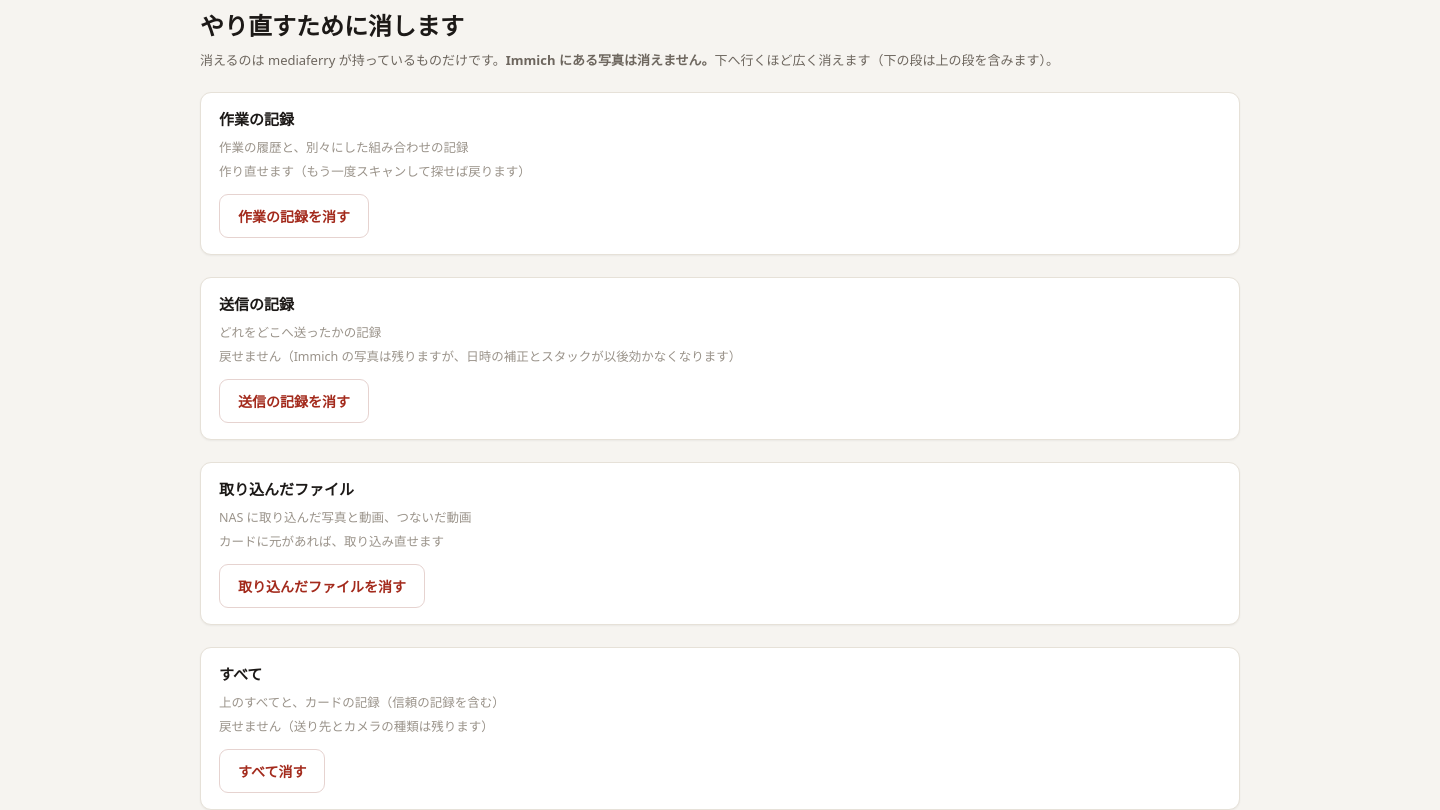
it: リセット › すべての確認は、残るものも書く（設定は消えない）
(page scrolled)
Click the button "すべて消す": click(272, 771) [219, 749, 326, 793]
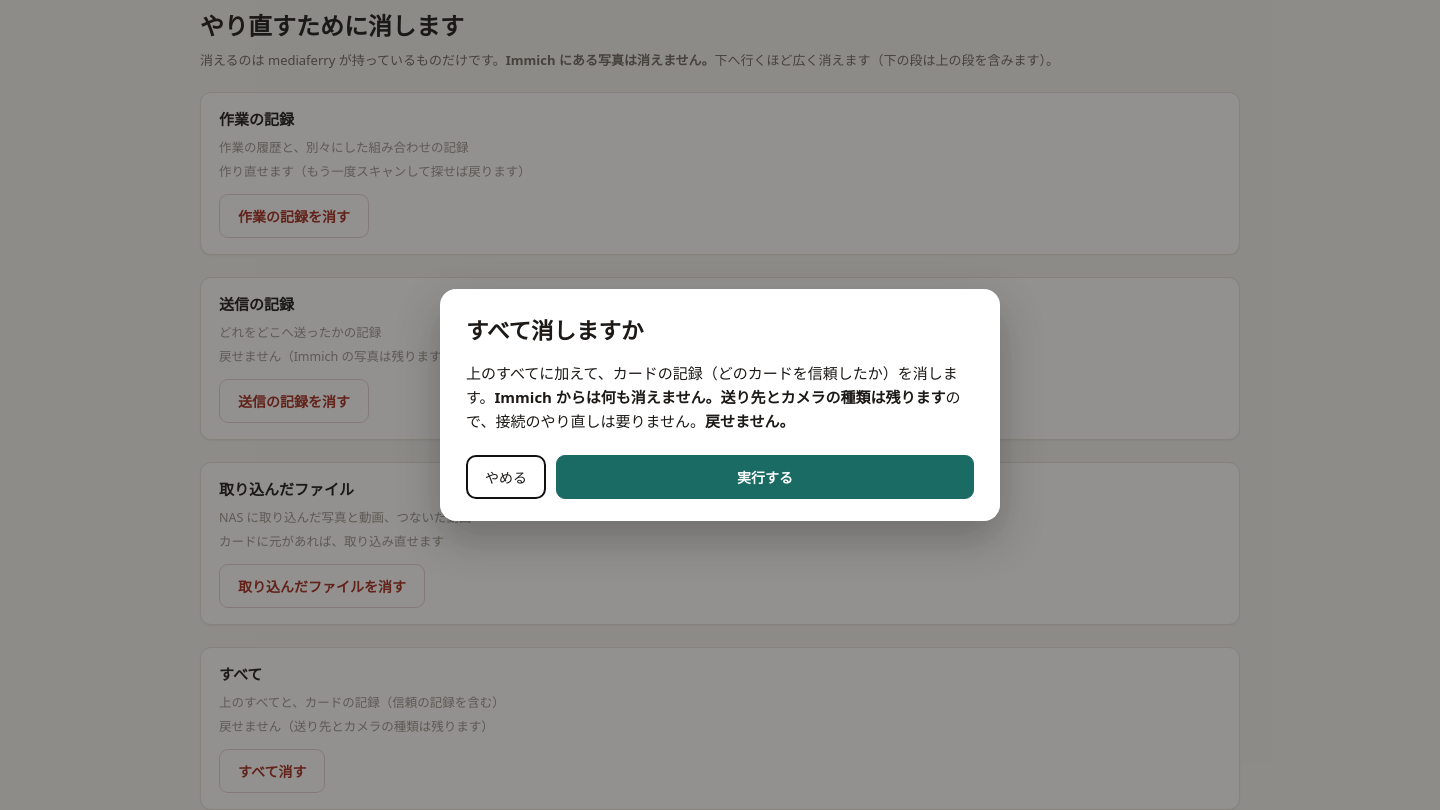
expect the dialog shows "送り先とカメラの種類は残ります": met, box [720, 387, 945, 407]
